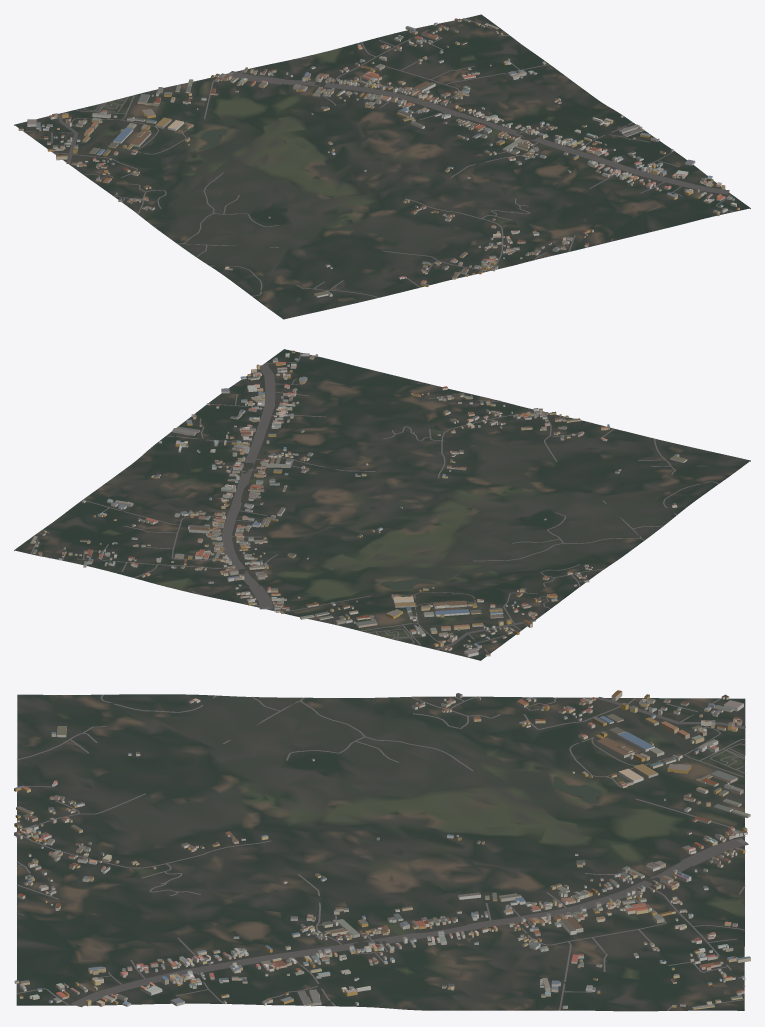
The picture shows the model from 3 angles, top to bottom: view 1: azimuth 30°, elevation 25°; view 2: azimuth 150°, elevation 25°; view 3: azimuth 270°, elevation 25°; orthographic projection. The views are drawn at different scales.
Parts seen in each view (by area): view 1: ground, buildings, roads; view 2: ground, buildings, roads; view 3: ground, buildings, roads, water.
Part boxes in pixels (x1=…): ground: x1=14, y1=14, x2=750, y2=319; buildings: x1=18, y1=18, x2=739, y2=297; roads: x1=23, y1=18, x2=733, y2=297; ground: x1=14, y1=349, x2=750, y2=660; buildings: x1=30, y1=350, x2=687, y2=657; roads: x1=30, y1=352, x2=718, y2=652; ground: x1=16, y1=694, x2=745, y2=1011; buildings: x1=14, y1=690, x2=750, y2=1009; roads: x1=17, y1=694, x2=748, y2=1010; water: x1=553, y1=776, x2=601, y2=803.
Bounding box in the file's own units: 1426 × 28 × 1419.
